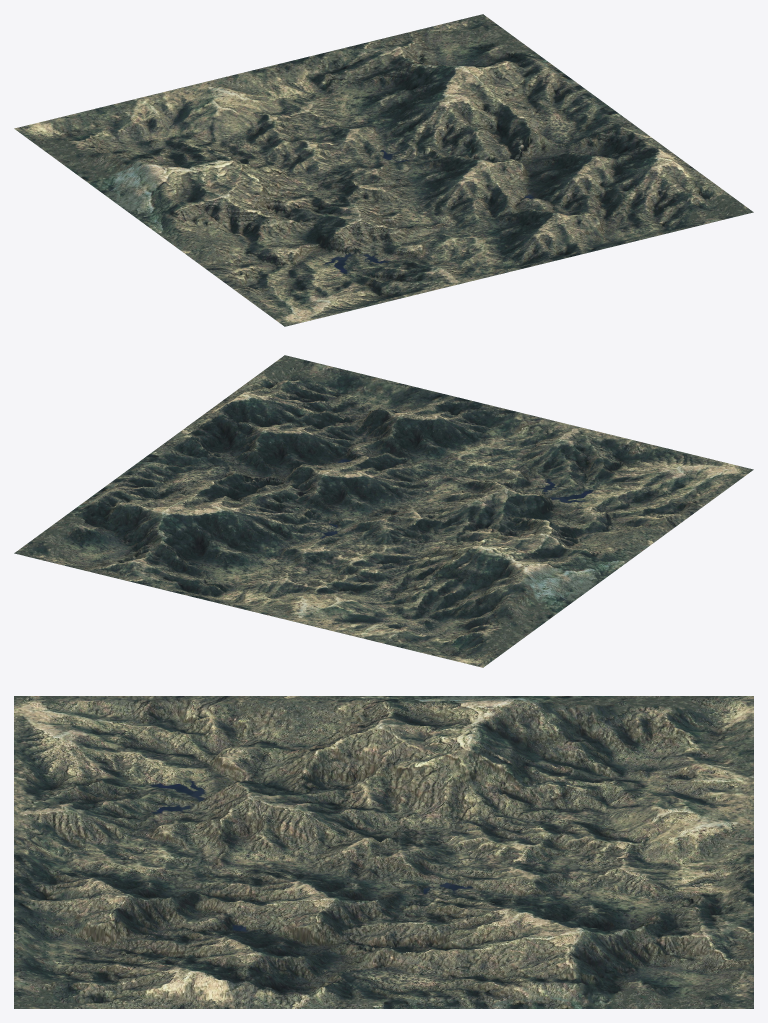
Rendered from terrain.glb.
3 renders of one model, top to bottom at view 1: azimuth 30°, elevation 25°; view 2: azimuth 150°, elevation 25°; view 3: azimuth 270°, elevation 25°, orthographic. The views are drawn at different scales.
Parts seen in each view (by area): view 1: Land-A; view 2: Land-A; view 3: Land-A.
Part boxes in pixels (x1,y1,x2,y2): Land-A: (14, 14, 753, 326); Land-A: (14, 355, 753, 667); Land-A: (14, 696, 753, 1008).
Bounding box in the file's own units: 400 × 25 × 400.
Materials: 1 (1 with a texture image).
